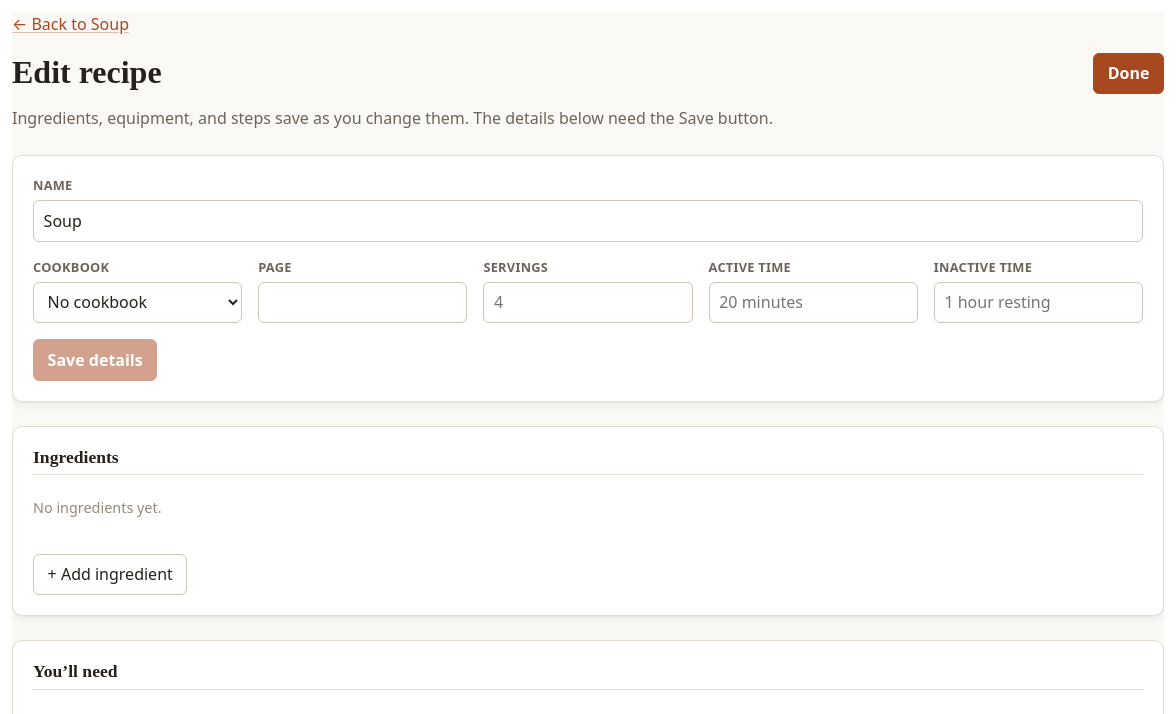
Test: ingredient editor when a save fails › clears a failed add when the new row is cancelled
Click the button "+ Add ingredient". click: (110, 575)
box: [33,554,187,595]
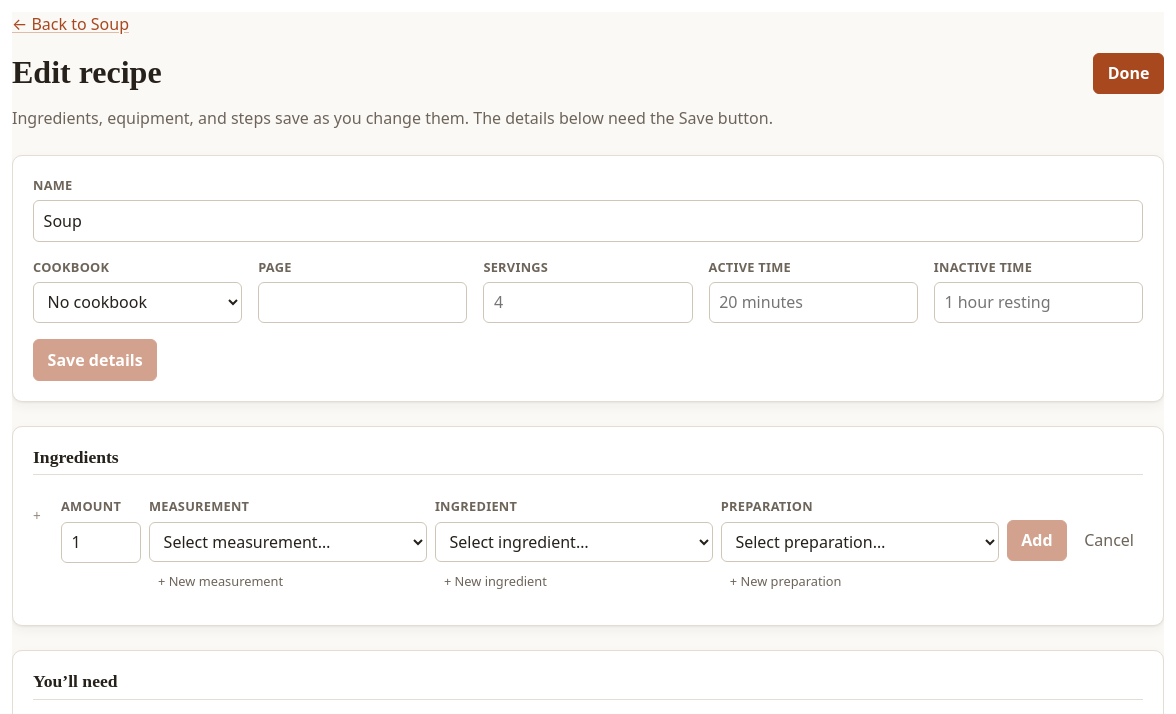
Expected: the dropdown labelled "Ingredient" is enabled
Select "leek" in the dropdown labelled "Ingredient". click: (574, 542)
box: [435,522,713,562]
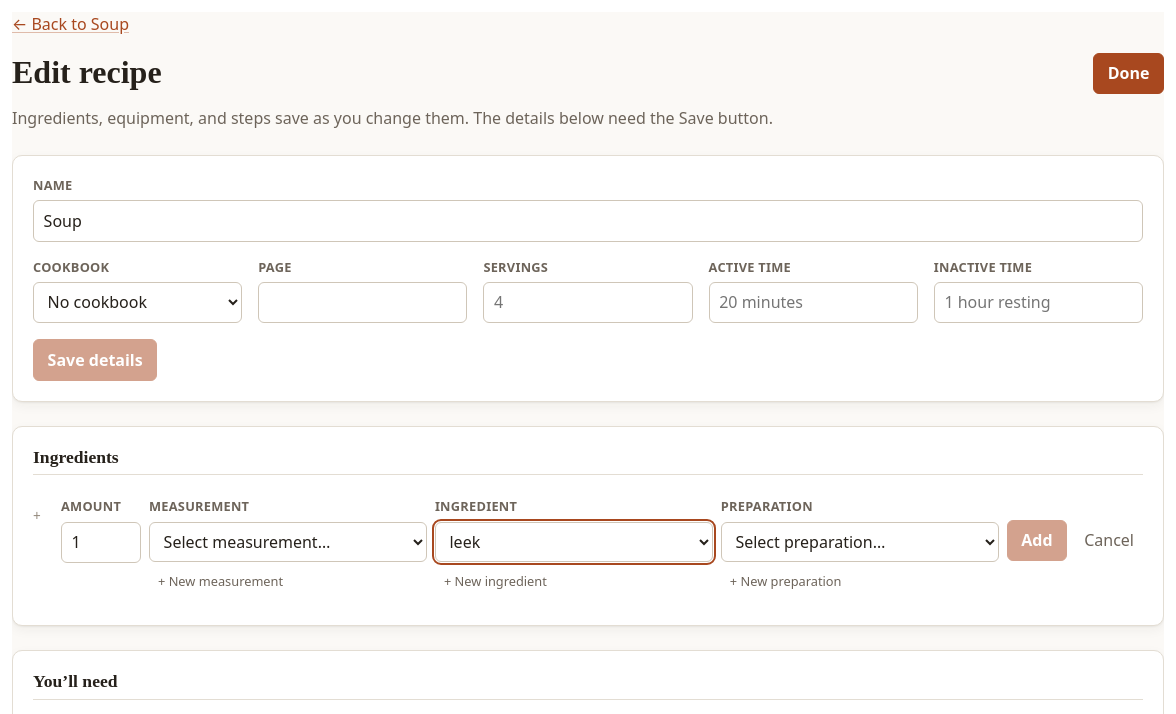
Expected: the dropdown labelled "Measurement" is enabled
Select "leek" in the dropdown labelled "Measurement". click: (288, 542)
box: [149,522,427,562]
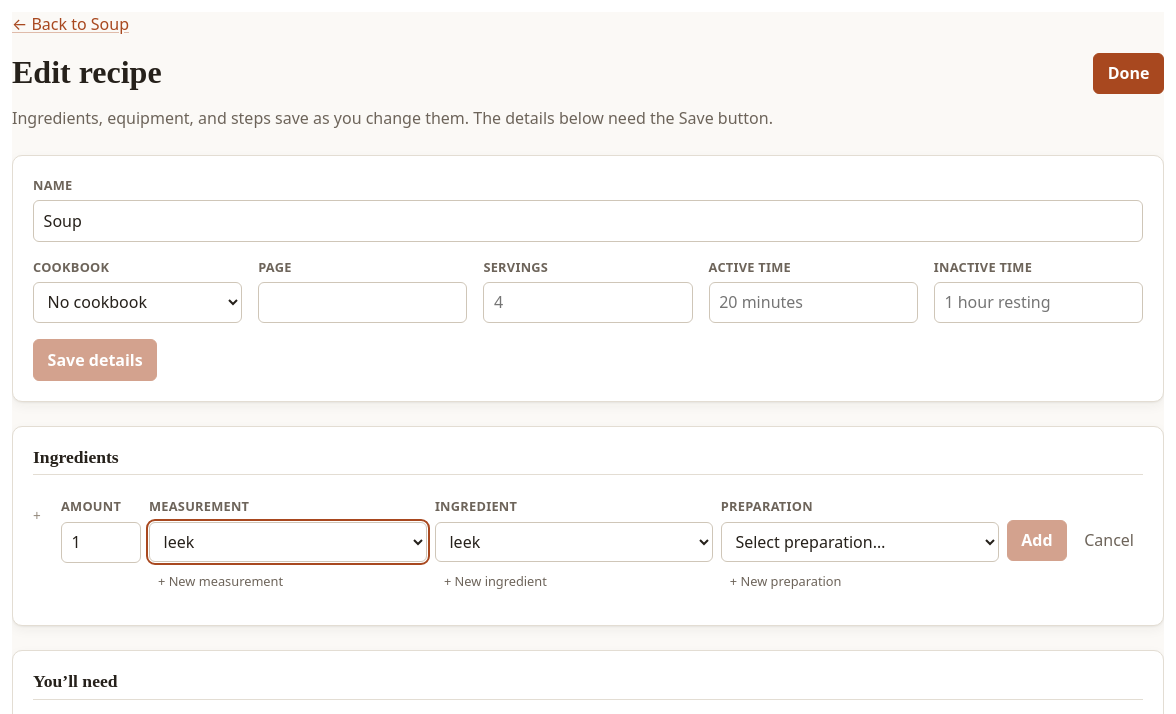
Expected: the dropdown labelled "Preparation" is enabled
Select "leek" in the dropdown labelled "Preparation". click: (860, 542)
box: [721,522,999,562]
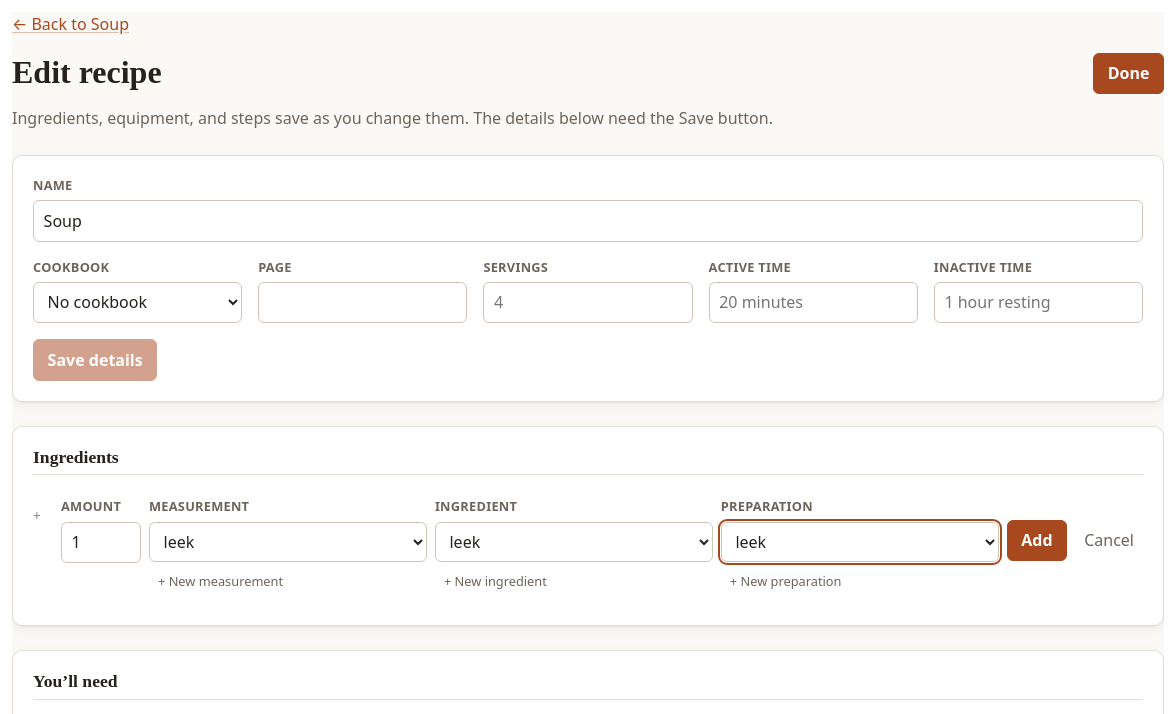
Click the button "Add". click: (1037, 540)
box: [1007,520,1067,561]
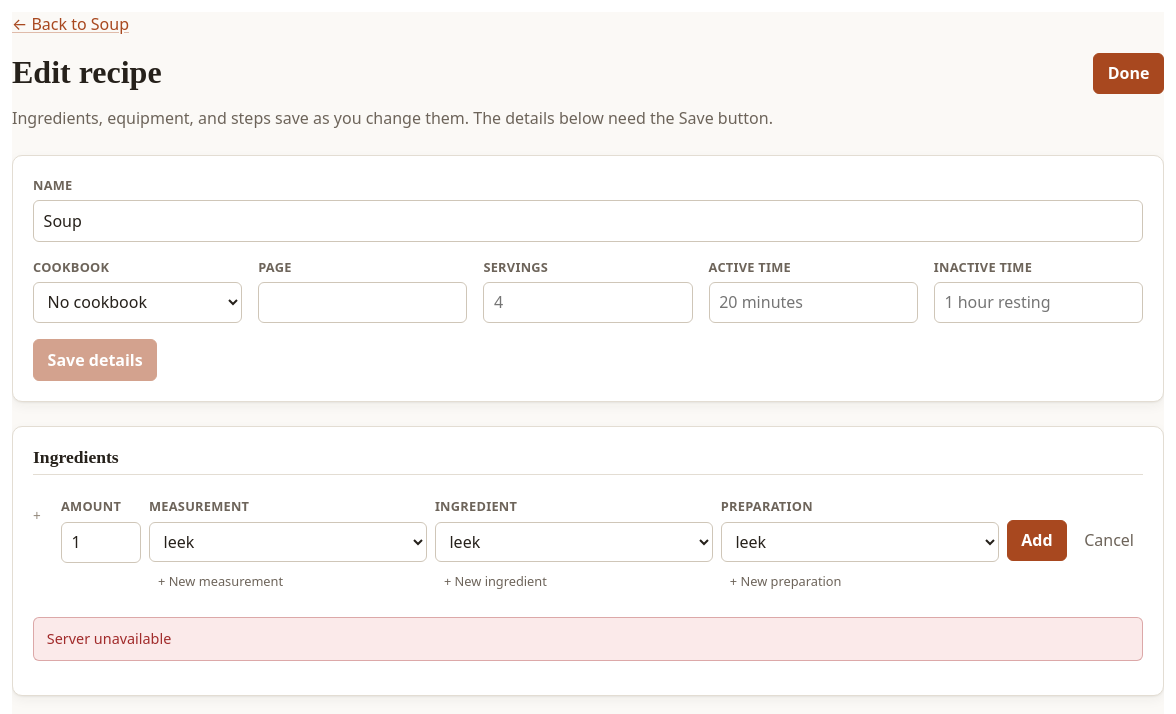
Expected: the text "Server unavailable" is shown, [33,617,1143,660]
Click the button "Cancel". click: (1109, 540)
box: [1075,523,1143,558]
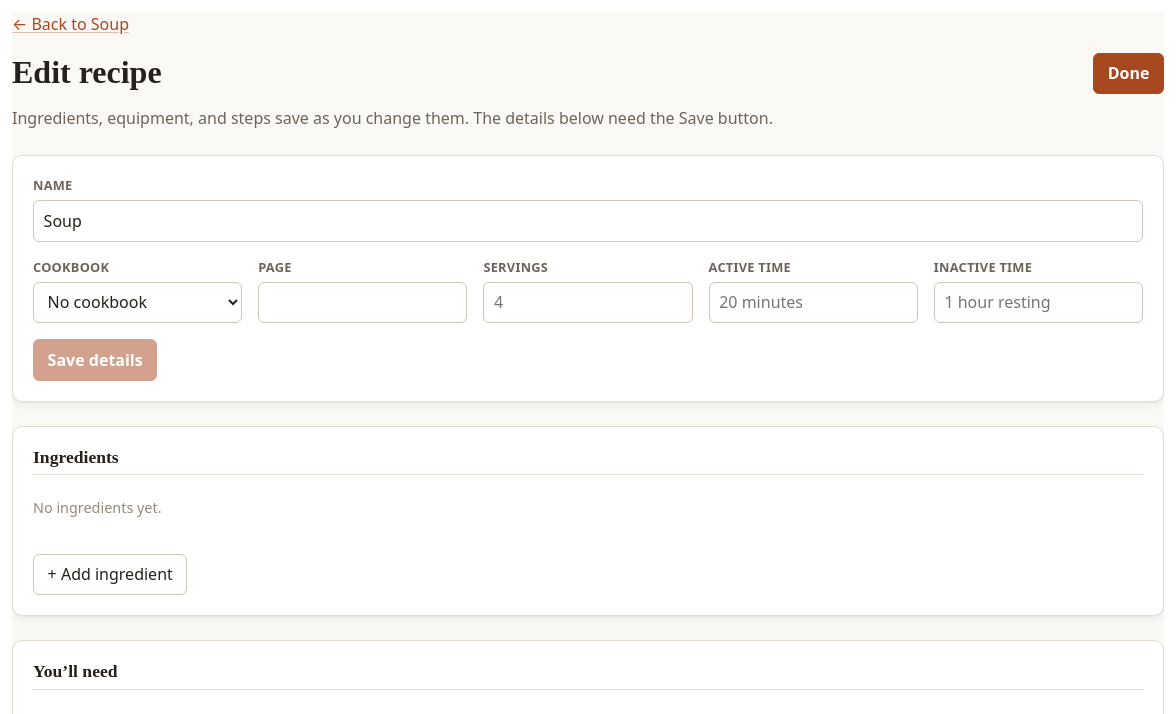
Expected: the text "Server unavailable" is gone
